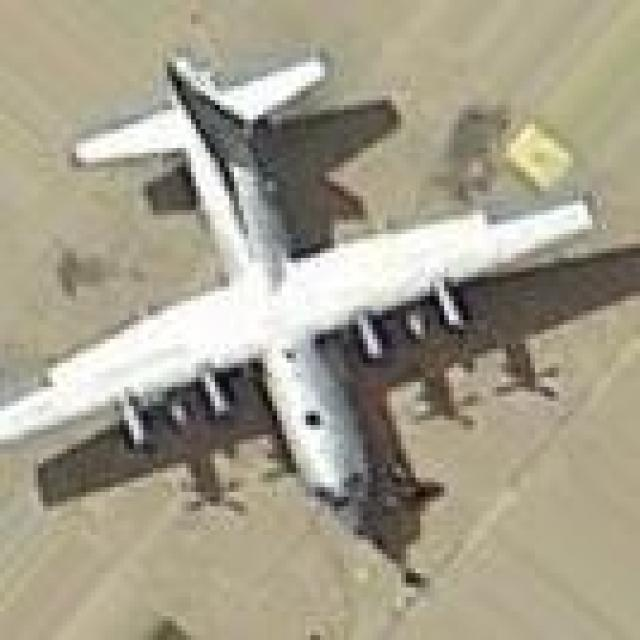C-130_TopDown: (0, 53, 640, 563)
